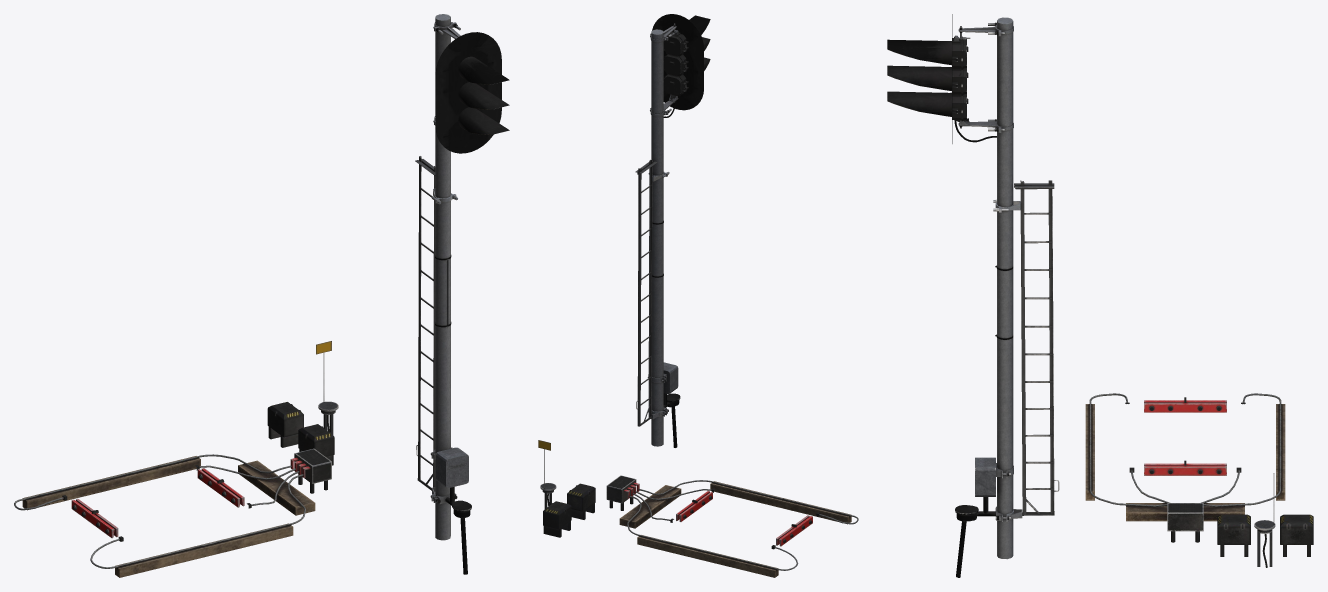
The model's file is RM_sig_MM2_3_exit.gltf.
3 renders of one model, left to right at view 1: azimuth 30°, elevation 25°; view 2: azimuth 150°, elevation 25°; view 3: azimuth 270°, elevation 25°, orthographic. The views are drawn at different scales.
Visible parts, largest first — view 1: Светофор ПРОХОДНОЙ, Изостык, Object002; view 2: Светофор ПРОХОДНОЙ, Изостык, Object002; view 3: Светофор ПРОХОДНОЙ, Изостык.
Part boxes in pixels (left/top/right/bottom): Светофор ПРОХОДНОЙ: left=415, top=14, right=509, bottom=574; Изостык: left=14, top=341, right=338, bottom=577; Object002: left=435, top=32, right=501, bottom=153; Светофор ПРОХОДНОЙ: left=635, top=15, right=710, bottom=447; Изостык: left=538, top=440, right=858, bottom=577; Object002: left=652, top=14, right=703, bottom=110; Светофор ПРОХОДНОЙ: left=887, top=17, right=1059, bottom=577; Изостык: left=1085, top=393, right=1313, bottom=567.
Bounding box in the file's own units: 4.22 × 6.58 × 4.54.
3 materials, 2 textured.
